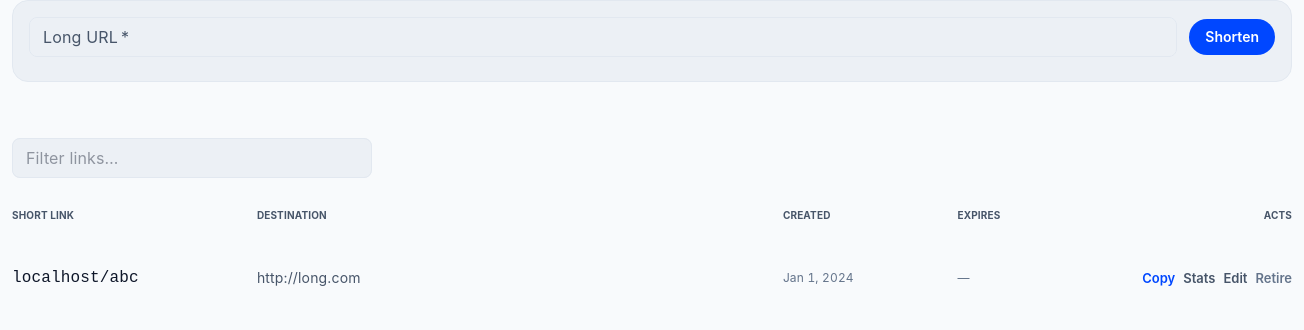
Test: DashboardPage › in-row destination correction › confirms the correction in place and the row carries the new destination
Check: the element with test id "link-row-abc" is shown, box [12,265,1292,291]
Click the button with test id "edit-abc": {"x": 1236, "y": 278} [1224,265,1248,291]
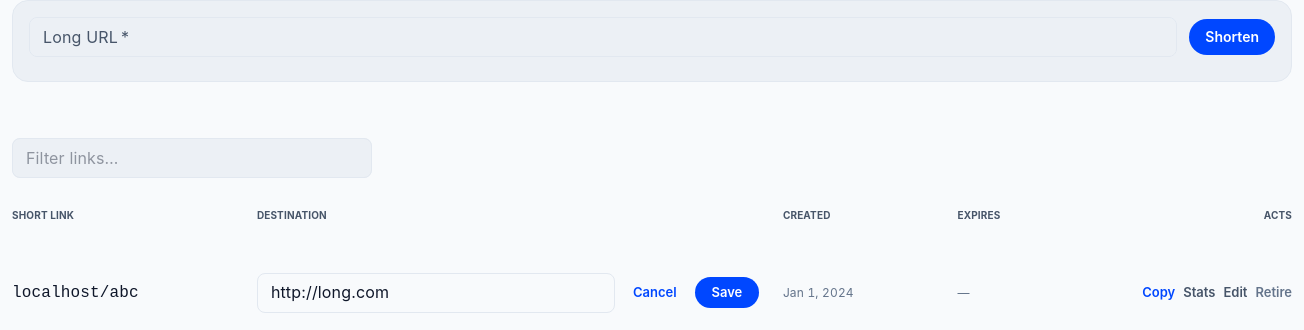
Replace the text in the field with test id "edit-url-input-abc" with "http://new-destination.com": {"x": 436, "y": 293} [257,273,615,313]
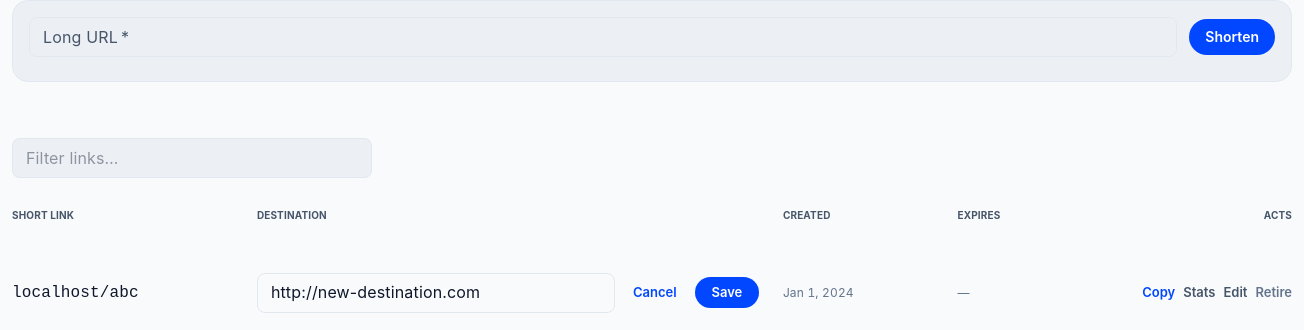
Click the button with test id "edit-confirm-abc": {"x": 727, "y": 293} [695,277,759,308]
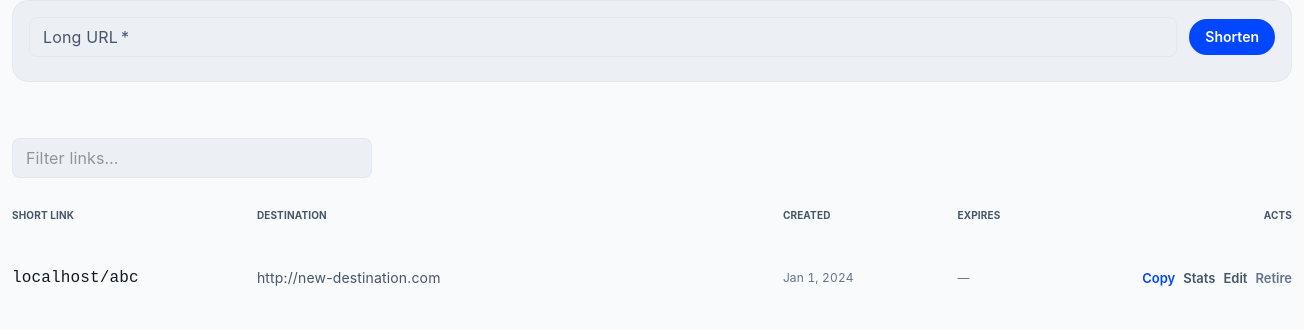
Check: the element with test id "link-row-abc" shows "http://new-destination.com", box [257,270,441,286]
Check: the field with test id "edit-url-input-abc" is gone
